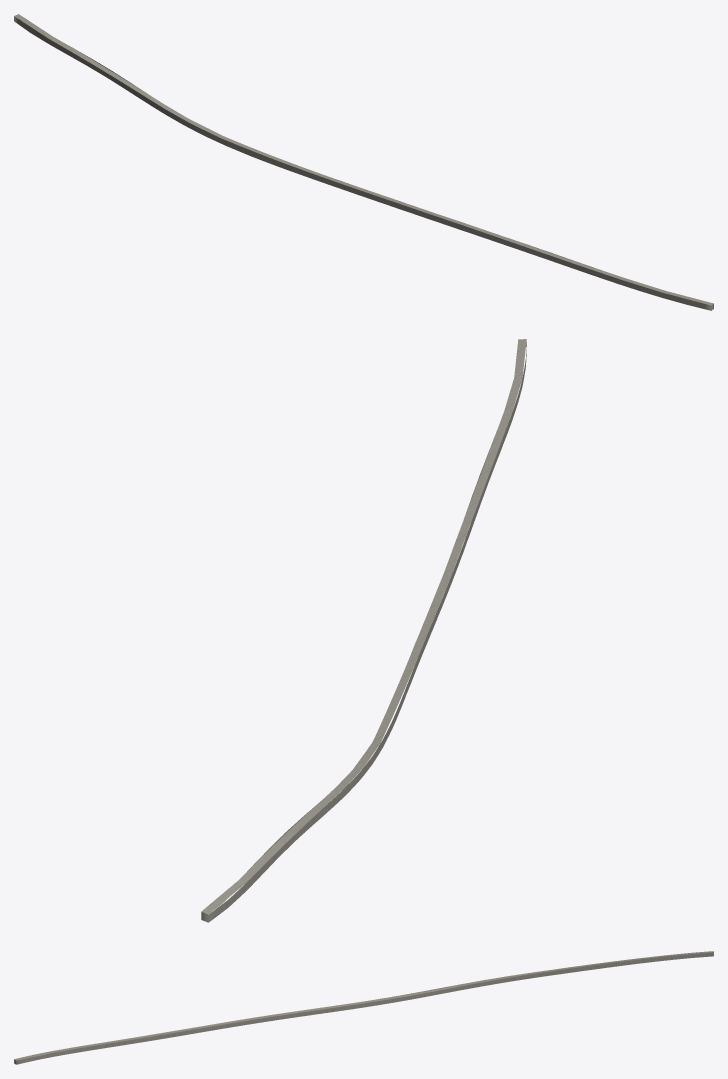
Rendered from curb_09.glb.
The picture shows the model from 3 angles, top to bottom: view 1: azimuth 30°, elevation 25°; view 2: azimuth 150°, elevation 25°; view 3: azimuth 270°, elevation 25°; orthographic projection. The views are drawn at different scales.
Visible parts, largest first — view 1: curb_09.sides, curb_09.surface; view 2: curb_09.surface, curb_09.sides; view 3: curb_09.sides, curb_09.surface.
Part boxes in pixels (x1,y1,x2,y2): curb_09.sides: [14, 16, 713, 310]; curb_09.surface: [14, 14, 713, 305]; curb_09.surface: [201, 339, 526, 914]; curb_09.sides: [201, 342, 526, 922]; curb_09.sides: [14, 951, 713, 1064]; curb_09.surface: [14, 951, 713, 1060].
Size of the model in its own units: 7.92 by 0.8162 by 24.76.
1 material, 1 textured.
